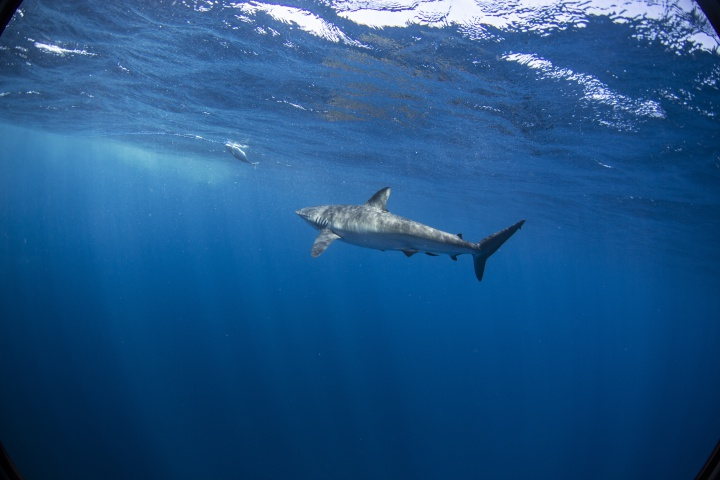Sedoso: (286, 178, 527, 283)
